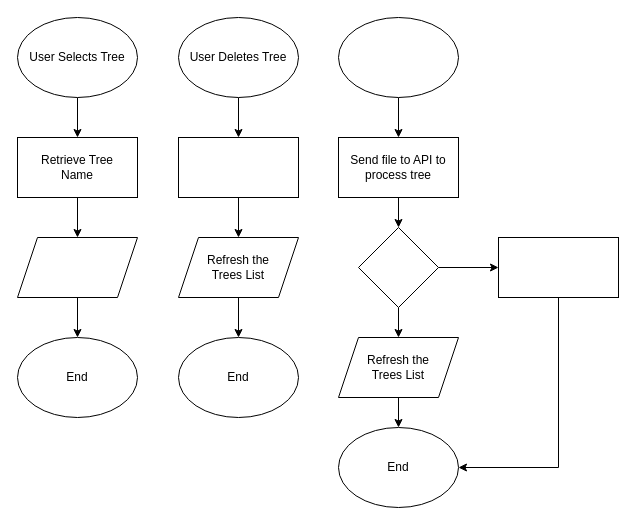
This 636x525 diagram has some shape labels left out. The centre of each missing label's shape, as x and y in pixels:
Output error from API in message box: (558,267)
Send API request to delete the tree: (238,167)
Send user to the page of that tree: (77,267)
Success?: (398,267)
User Uploads Tree: (398,57)
